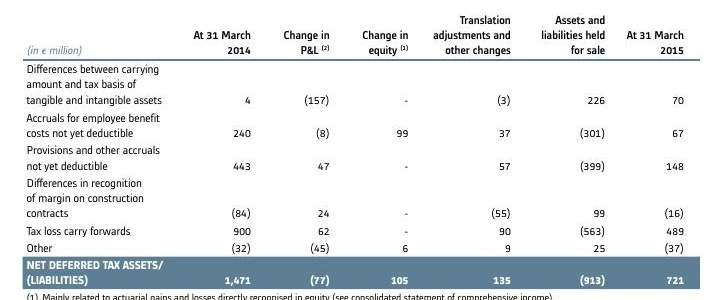table: (0, 0, 721, 300)
